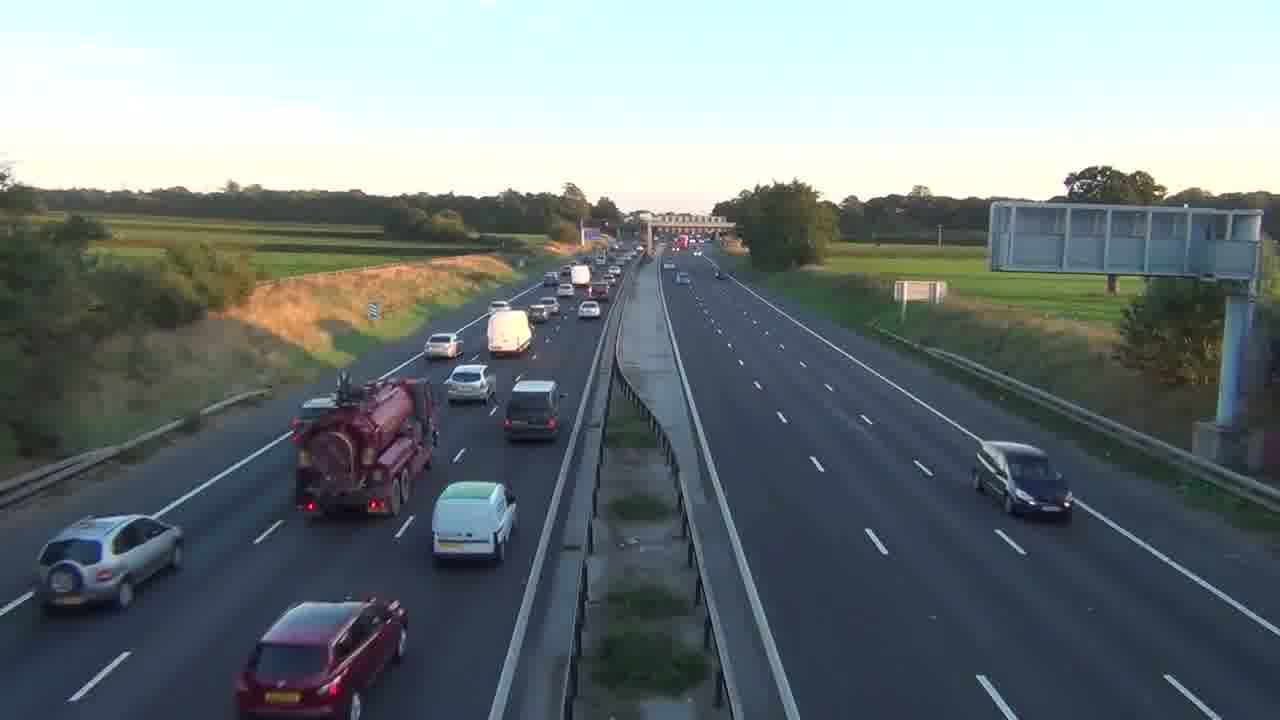car: (231, 597, 398, 718), (36, 512, 185, 613), (971, 439, 1074, 521), (431, 479, 518, 567), (502, 378, 562, 443), (444, 363, 494, 405), (424, 333, 463, 359)
truck: (289, 375, 437, 519), (502, 378, 562, 442), (486, 308, 534, 358)
